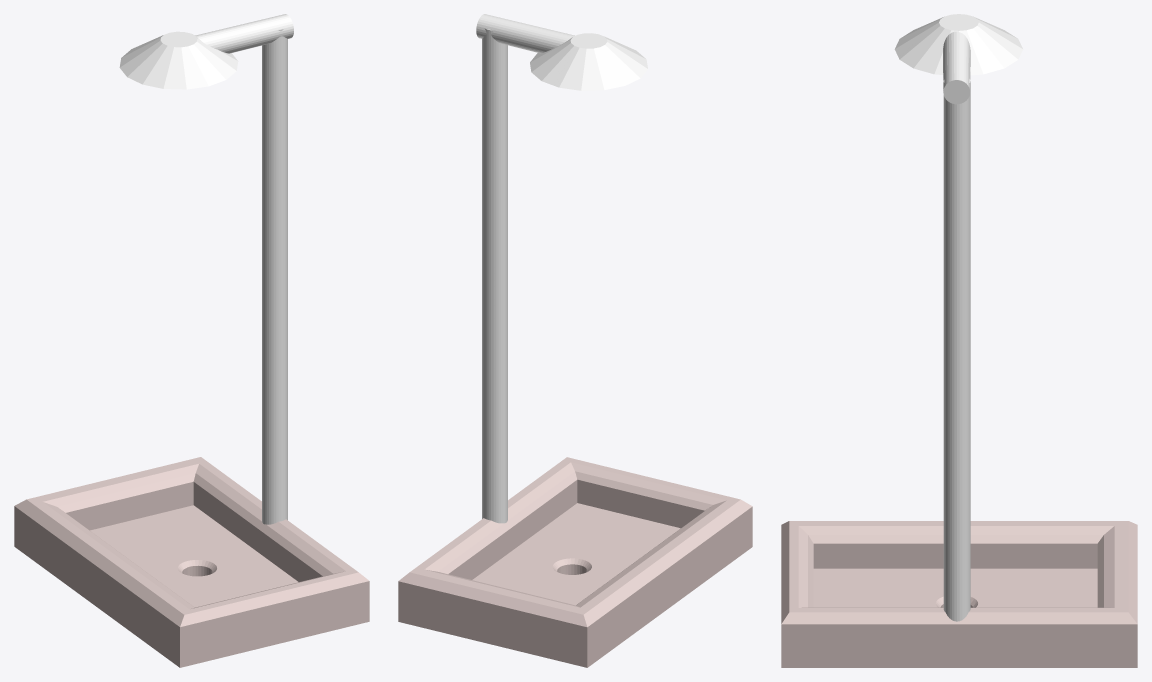
The model's file is Shower.fbx.
3 renders of one model, left to right at view 1: azimuth 30°, elevation 25°; view 2: azimuth 150°, elevation 25°; view 3: azimuth 270°, elevation 25°, orthographic. The views are drawn at different scales.
Visible parts, largest first — view 1: Shower; view 2: Shower; view 3: Shower.
Part boxes in pixels (x1,y1,x2,y2): Shower: (14, 14, 369, 667); Shower: (398, 14, 752, 667); Shower: (781, 14, 1137, 667).
Bounding box in the file's own units: 2 × 5.52 × 3.03.
